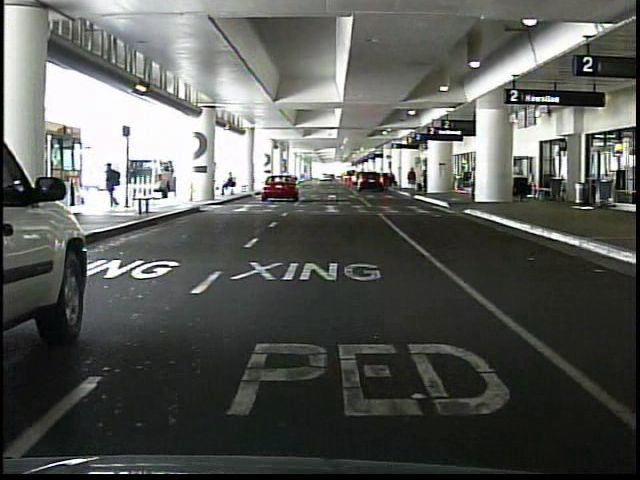person: (107, 162, 124, 208), (222, 173, 240, 197), (408, 165, 420, 193)
